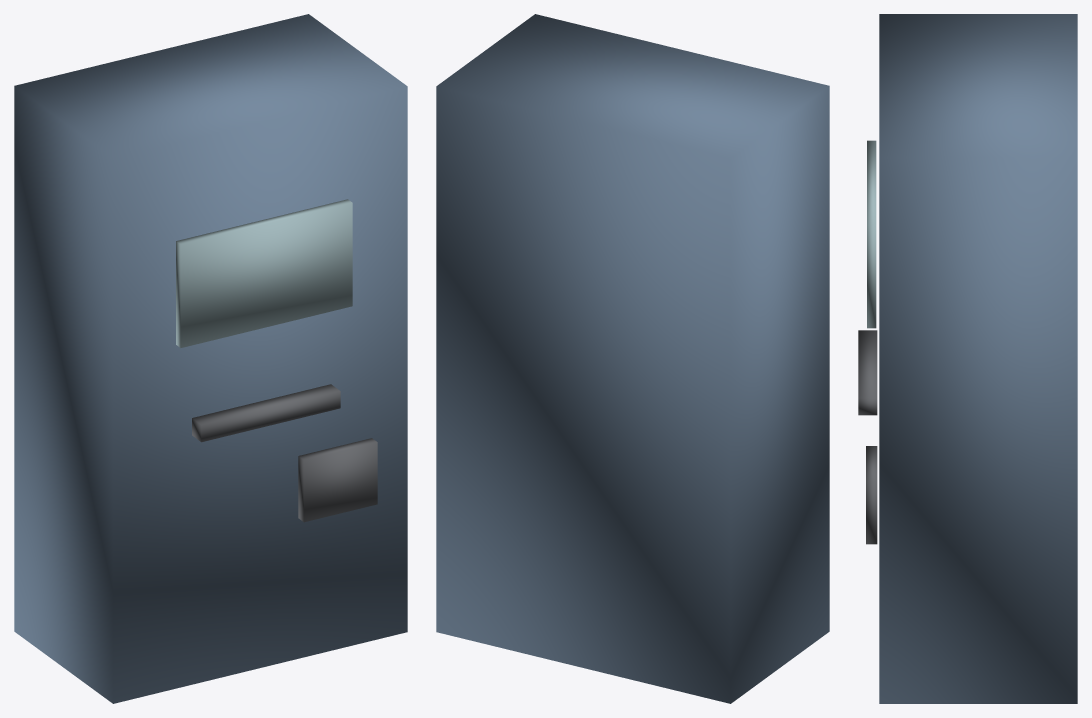
Rendered from ticket_vending_machine__wide.glb.
The picture shows the model from 3 angles, left to right: view 1: azimuth 30°, elevation 25°; view 2: azimuth 150°, elevation 25°; view 3: azimuth 270°, elevation 25°; orthographic projection.
Visible parts, largest first — view 1: world; view 2: world; view 3: world.
Part boxes in pixels (bbox=[...]): world: bbox=[14, 14, 407, 703]; world: bbox=[436, 14, 829, 703]; world: bbox=[858, 14, 1077, 703].
Bounding box in the file's own units: 0.8928 × 1.58 × 0.575.
